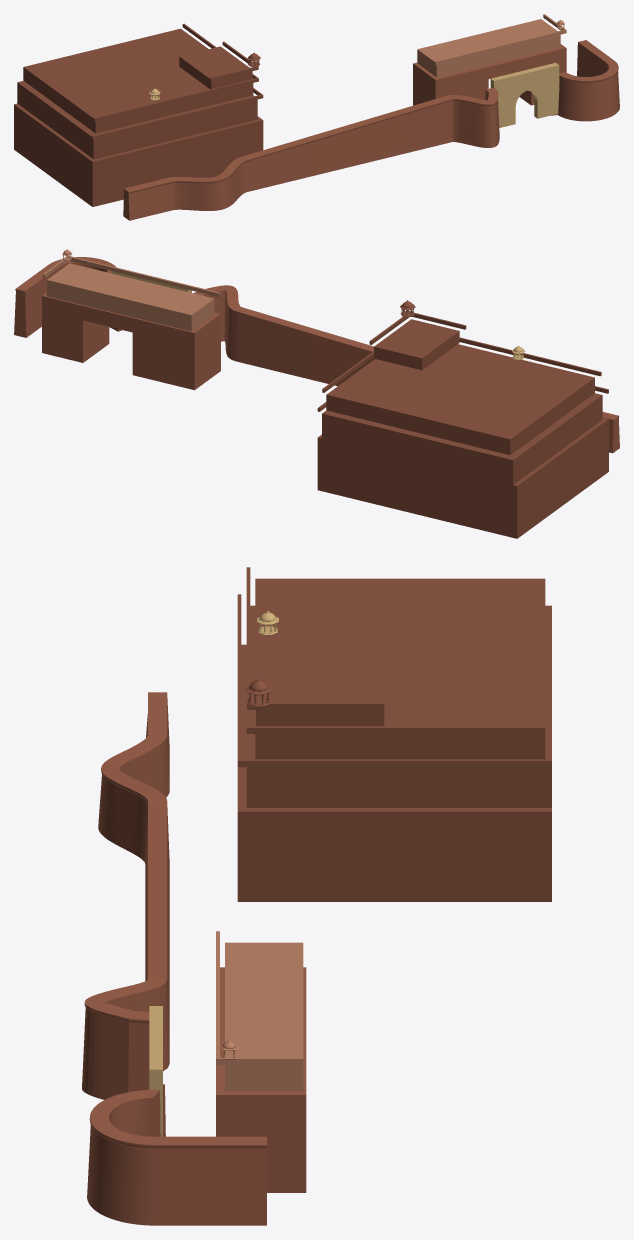
File: junagarh-atlas.glb
3 views of the same model, one above another, from view 1: azimuth 30°, elevation 25°; view 2: azimuth 150°, elevation 25°; view 3: azimuth 270°, elevation 25° (orthographic). The views are drawn at different scales.
Size of the model in its own units: 119 by 24.88 by 48.07.
